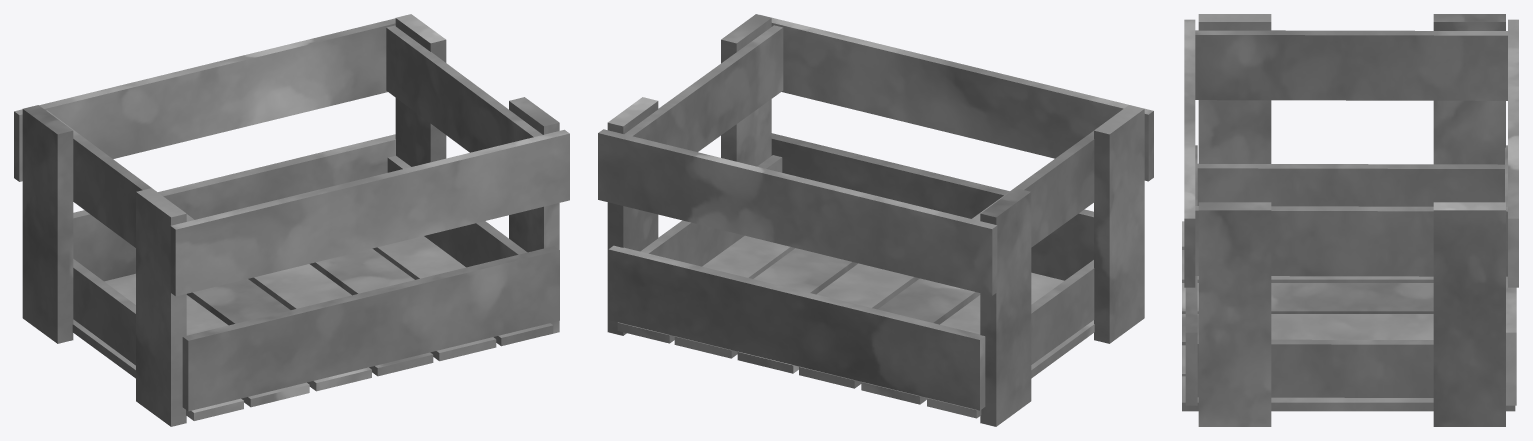
Rendered from SM_Crate_01a.fbx.
The picture shows the model from 3 angles, left to right: view 1: azimuth 30°, elevation 25°; view 2: azimuth 150°, elevation 25°; view 3: azimuth 270°, elevation 25°; orthographic projection. The views are drawn at different scales.
Parts seen in each view (by area): view 1: SM_Crate_01a_LOD0; view 2: SM_Crate_01a_LOD0; view 3: SM_Crate_01a_LOD0.
Part boxes in pixels (box(x1,y1,x2,y2)): SM_Crate_01a_LOD0: box(14, 14, 569, 426); SM_Crate_01a_LOD0: box(598, 14, 1153, 426); SM_Crate_01a_LOD0: box(1182, 14, 1518, 426).
Bounding box in the file's own units: 85.68 × 61.33 × 43.53.
